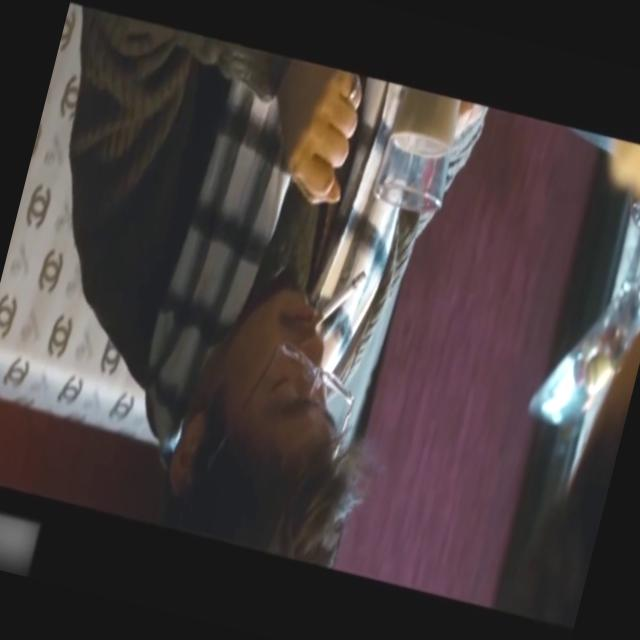cigarette: (315, 262, 368, 336)
